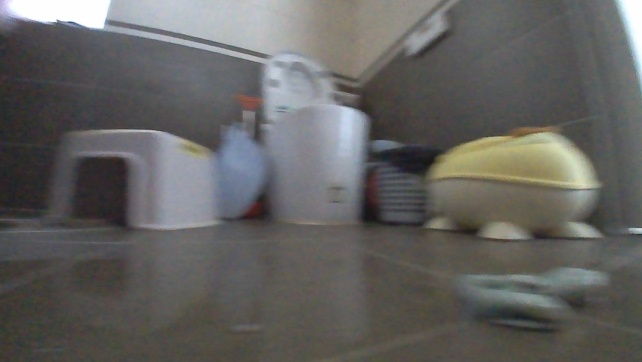toilet: (256, 47, 375, 229)
